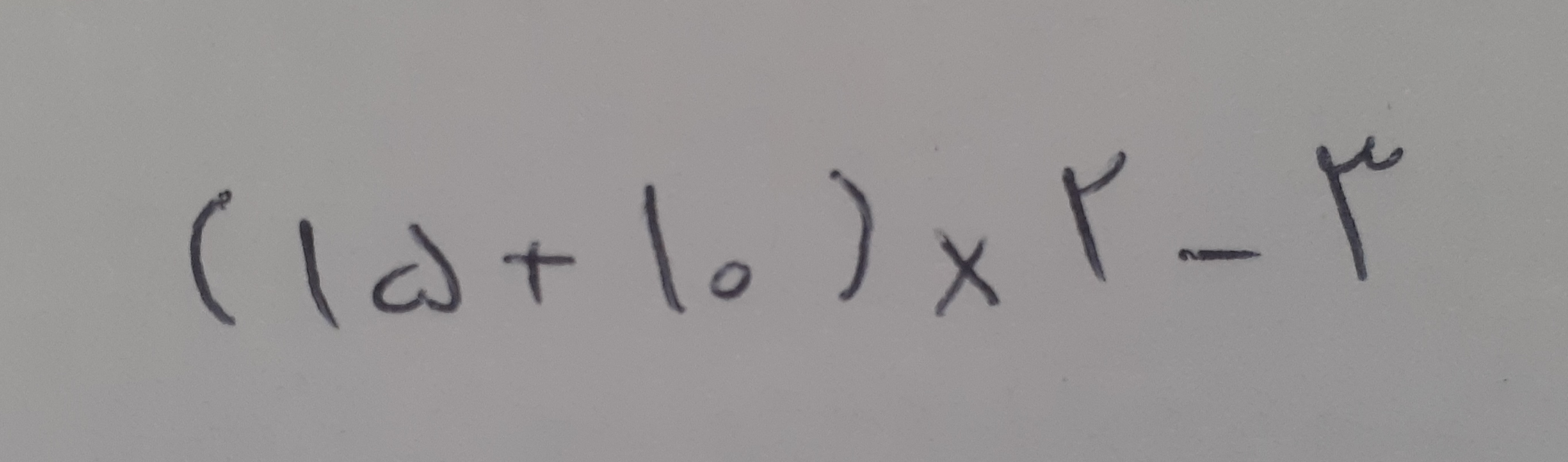character: (1316, 134, 1404, 282), (1062, 152, 1127, 282), (372, 223, 461, 314), (188, 188, 238, 327), (828, 168, 874, 302), (932, 231, 999, 318), (643, 183, 687, 314), (297, 218, 341, 330), (504, 241, 577, 305), (710, 261, 753, 300), (1176, 248, 1260, 261)
